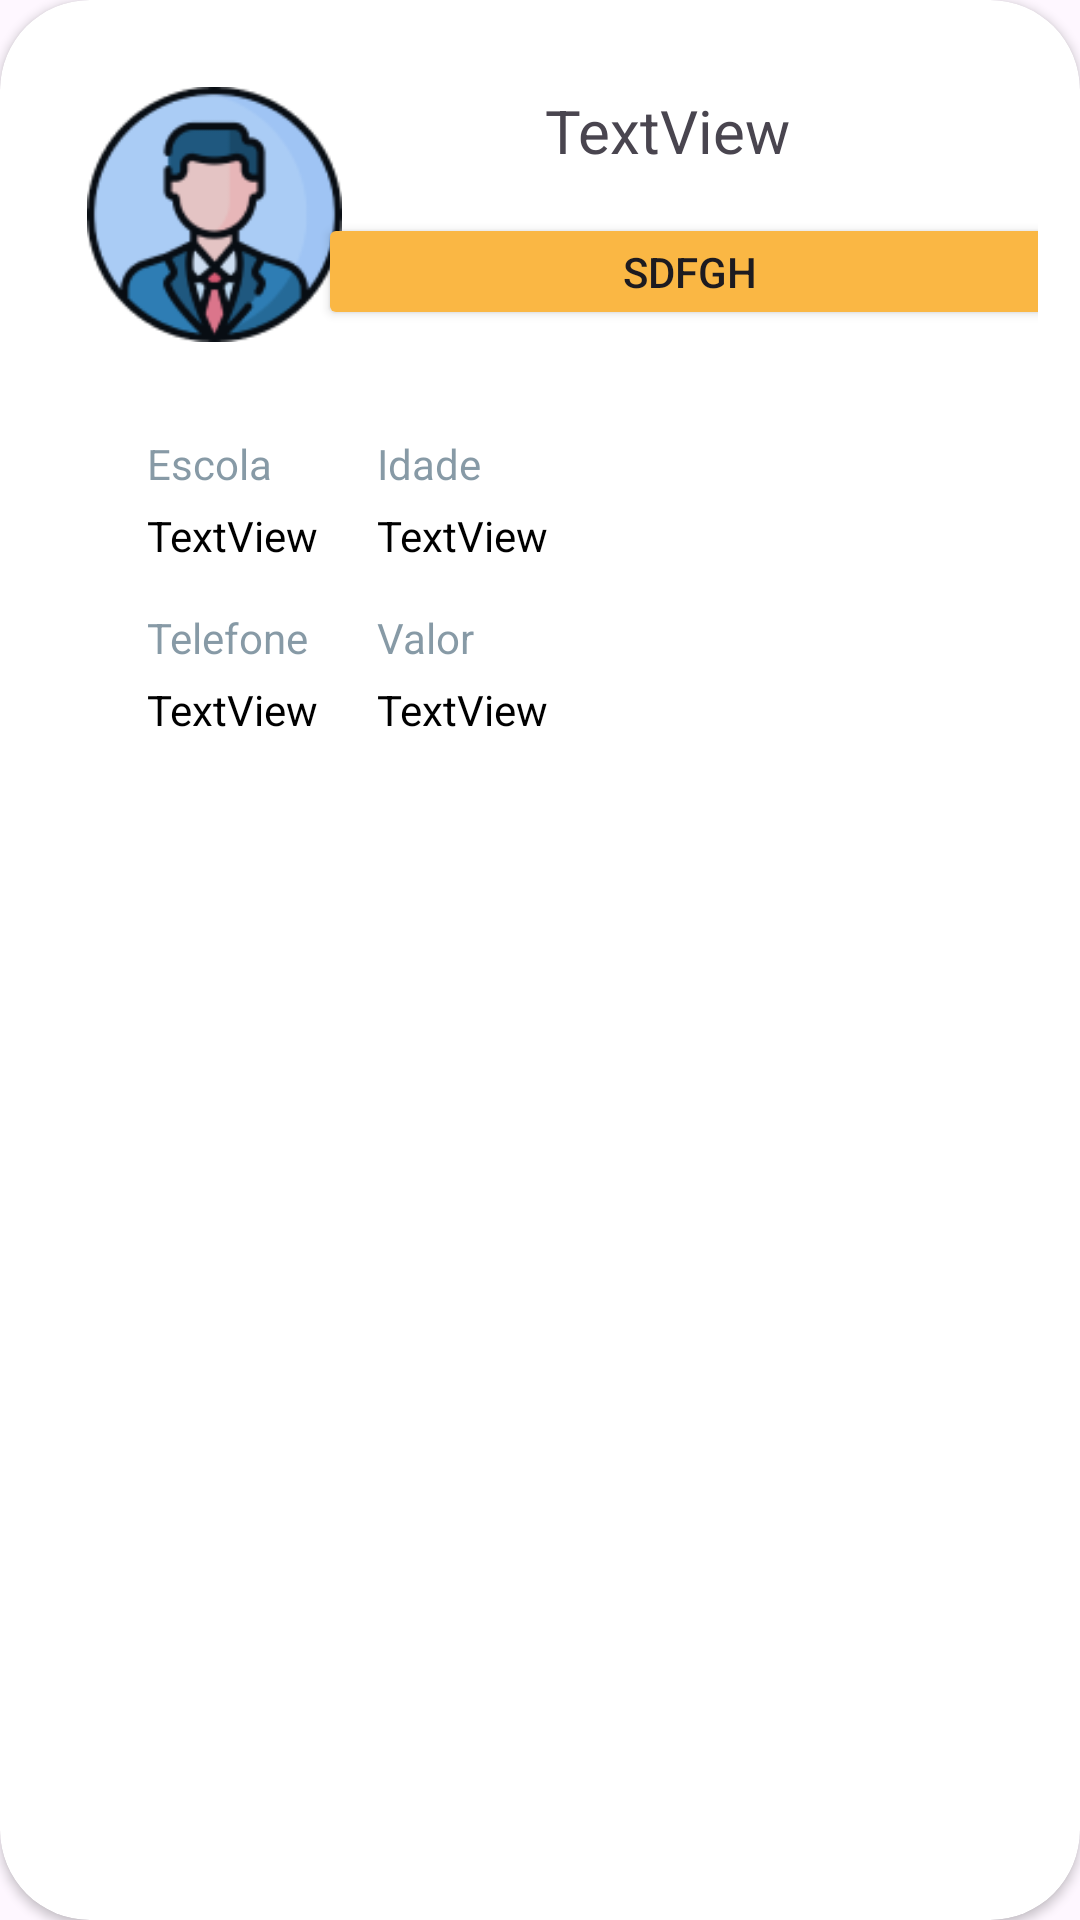

Icon click points for this 1080 × 1920 phone screenshot, format [x,y]:
fotofihlo: [214,214]
